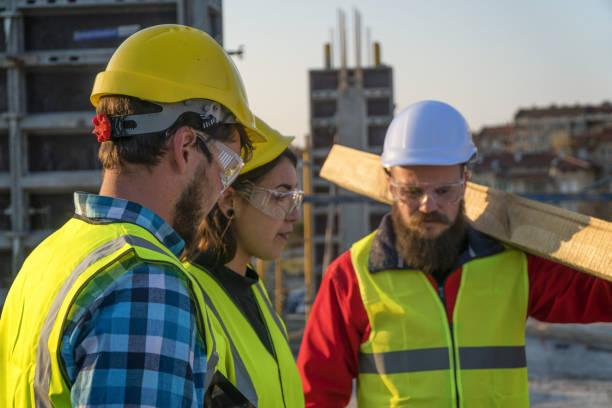goggle: (164, 112, 254, 199), (224, 172, 309, 230), (385, 174, 471, 207)
helmet: (73, 9, 272, 151), (373, 87, 486, 174), (236, 114, 306, 183)
vest: (0, 208, 228, 408), (344, 226, 545, 408), (185, 252, 319, 408)
